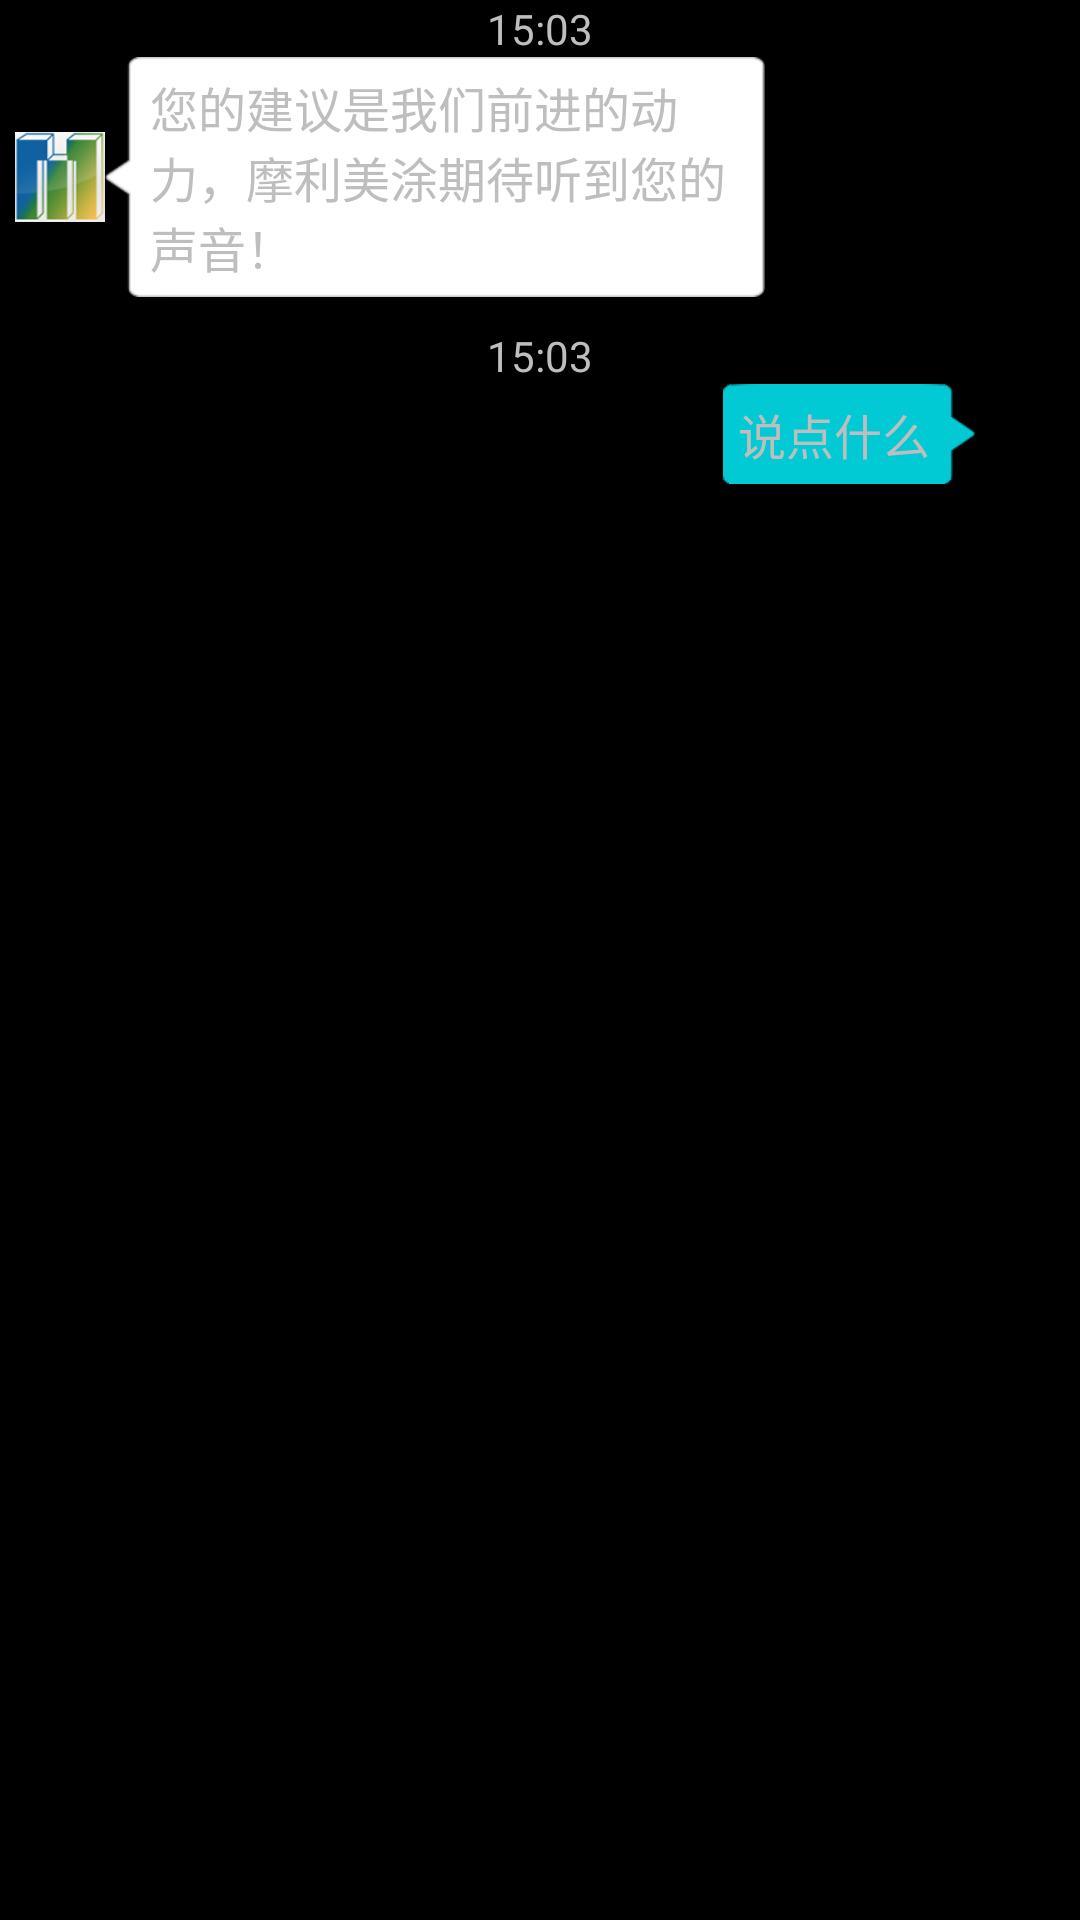

Where to tap for icons on this 1080×1920 app screen, as [x,y]:
app: [60,177]
